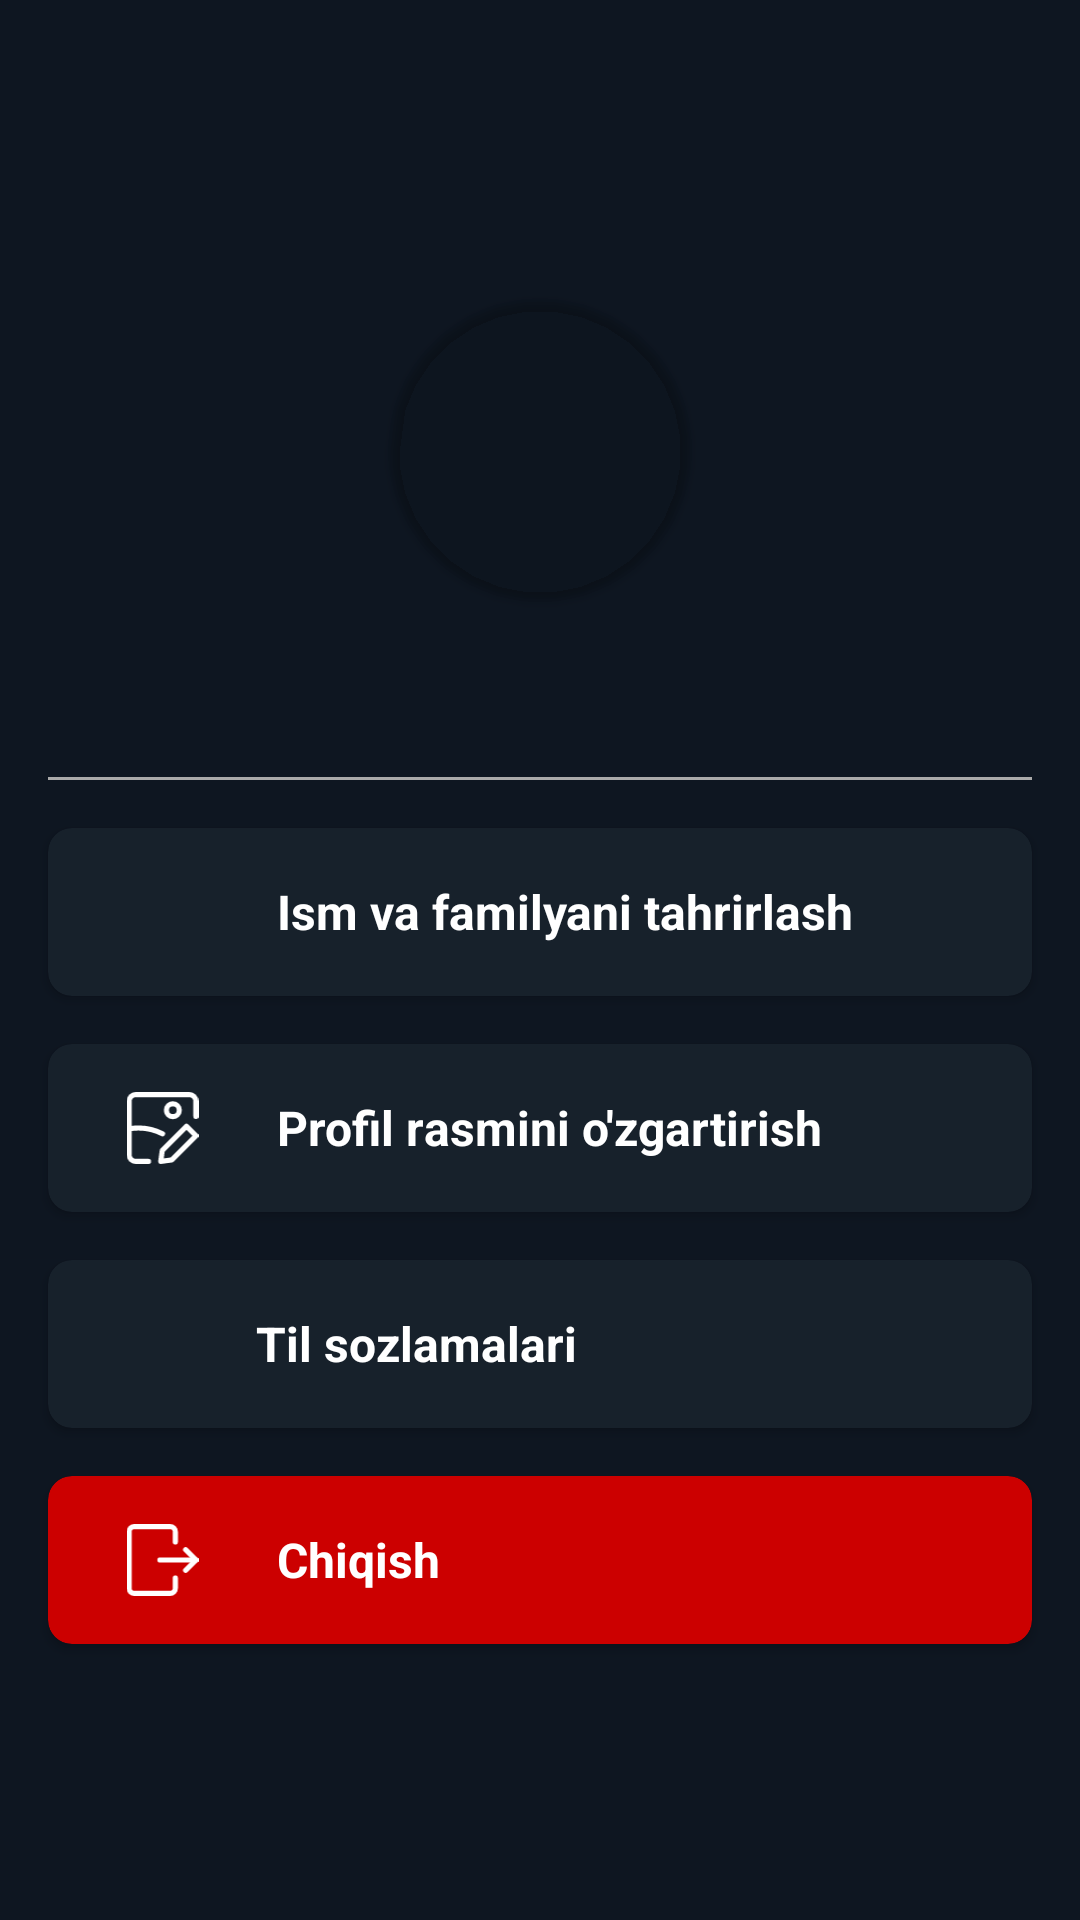

Screen size 1080x1920. Icon name, then its box in pixels as {"x1": x1, "y1": y1, "x2": x2, "y2": y2}:
edit photo: {"x1": 127, "y1": 1092, "x2": 199, "y2": 1164}
